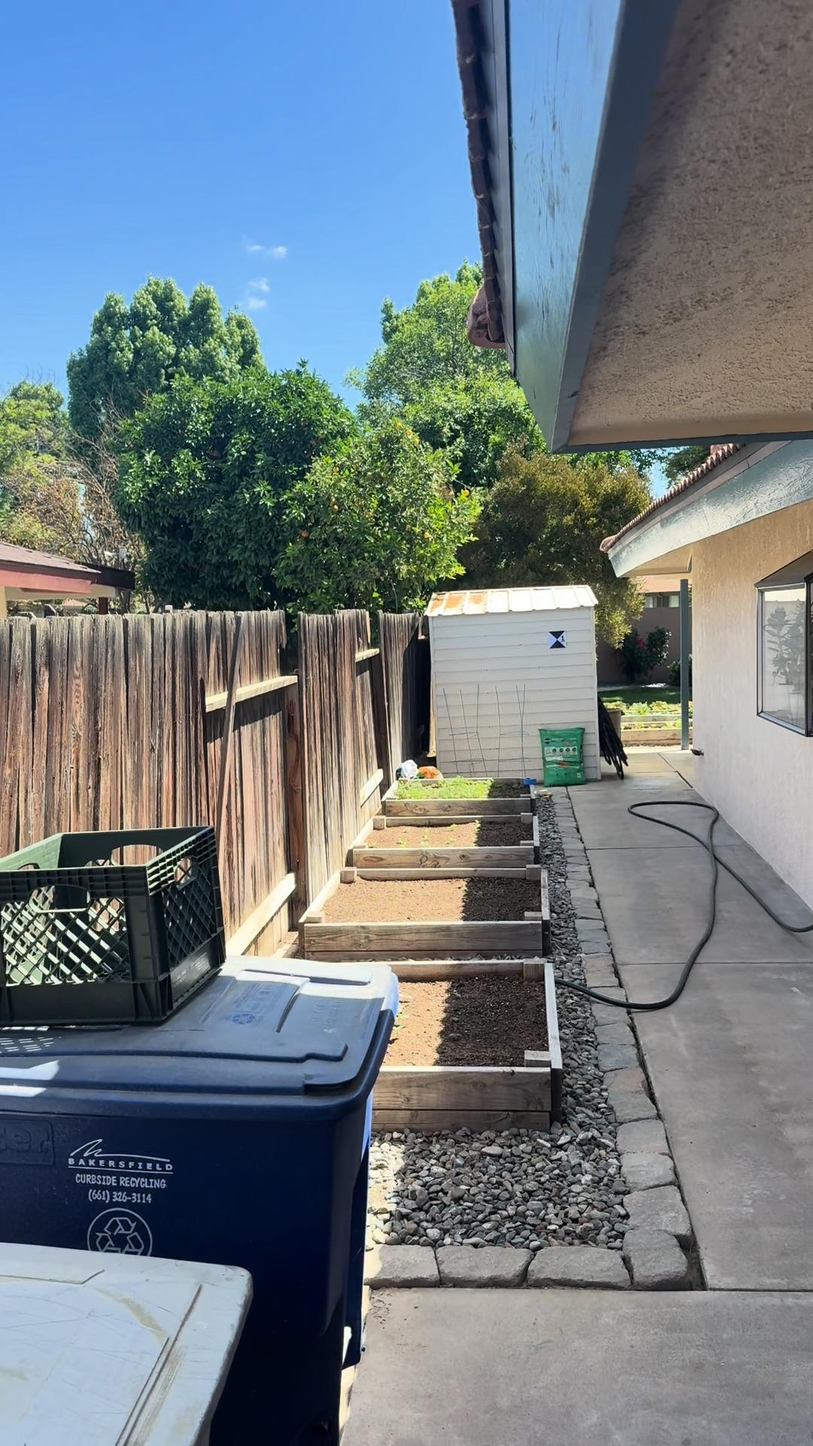target1: (546, 627, 569, 648)
